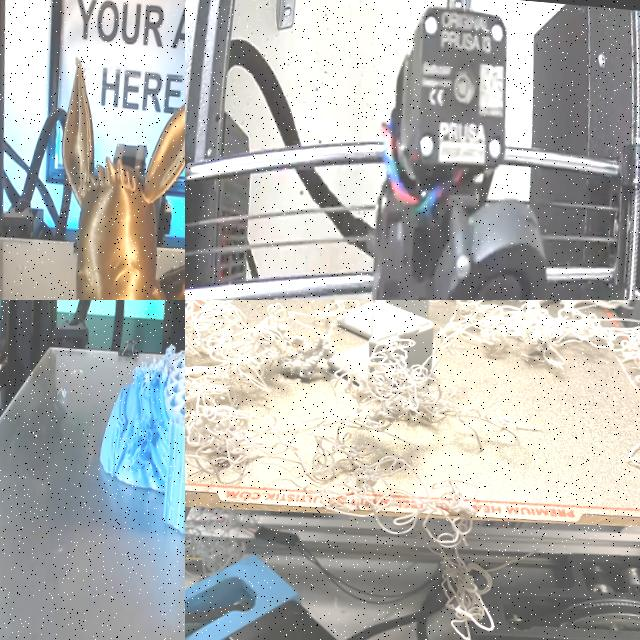spaghetti: (185, 300, 433, 510), (384, 300, 640, 426), (412, 509, 497, 640), (185, 511, 256, 586), (620, 437, 640, 494)
